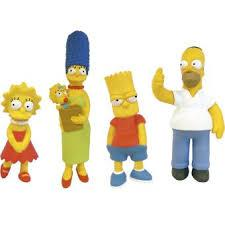Bart: (98, 67, 160, 183)
Homer: (161, 42, 225, 186)
Lisa: (0, 79, 45, 184)
Maggie: (48, 83, 77, 123)
Marge: (49, 27, 95, 191)
